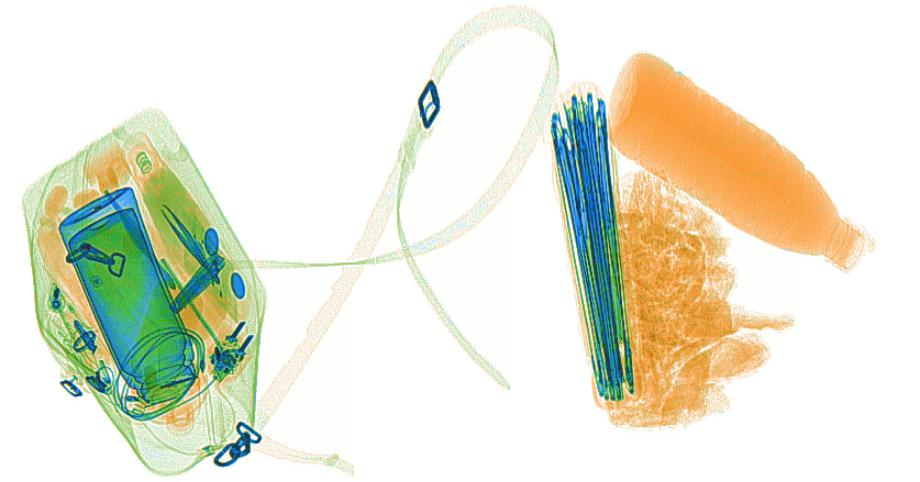plasticBottleWithaNozzle: (123, 277, 206, 426)
